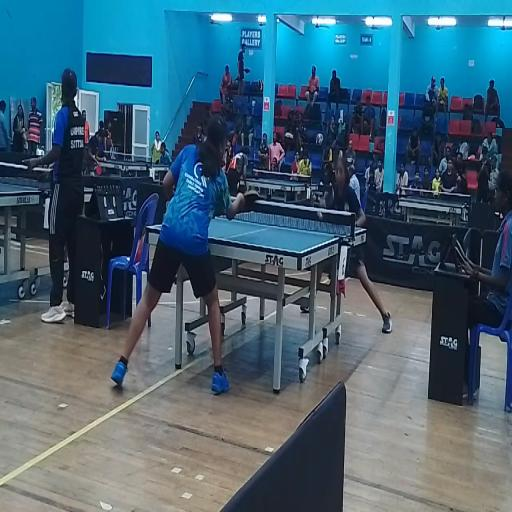ball: (316, 210, 323, 220)
